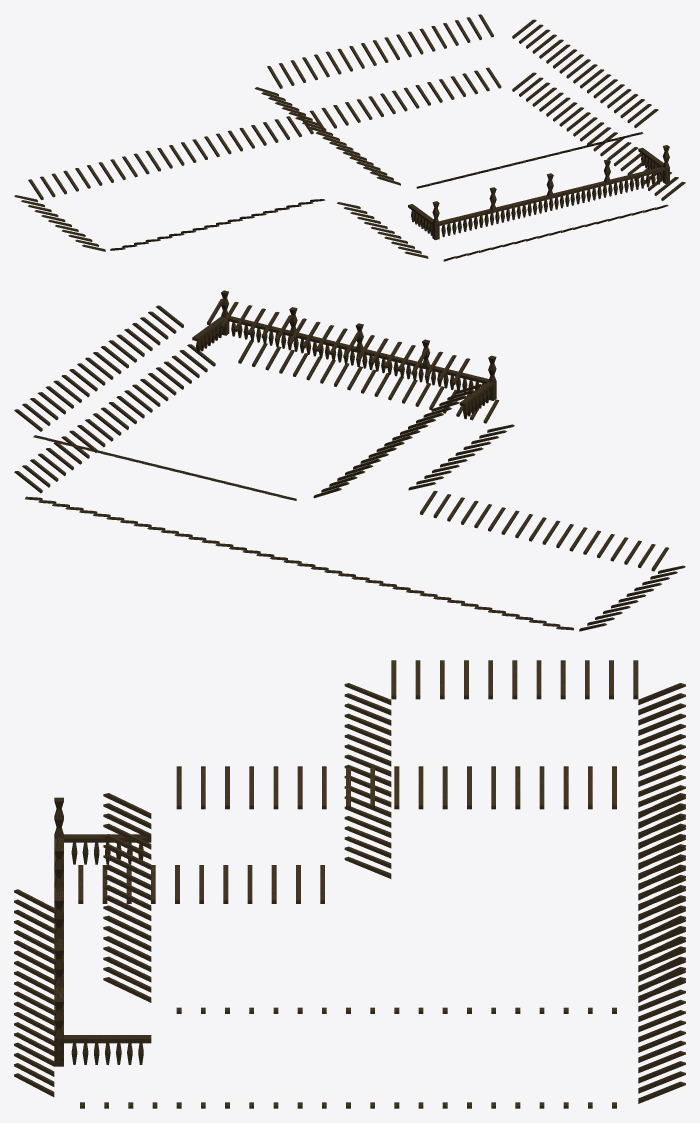
3 renders of one model, top to bottom at view 1: azimuth 30°, elevation 25°; view 2: azimuth 150°, elevation 25°; view 3: azimuth 270°, elevation 25°, orthographic. The views are drawn at different scales.
Parts seen in each view (by area): view 1: Soportes.005, Soportes.003, Soportes.002, Soportes.012, Soportes.004, Soportes.006, barandal, Soportes.007, Soportes.009, Soportes.008, Soportes.001, Soportes (+1 smaller); view 2: Soportes.003, Soportes.002, Soportes.001, Soportes.005, Soportes.008, Soportes.012, Soportes, Soportes.006, barandal, Soportes.009, Soportes.007, Soportes.004 (+1 smaller); view 3: Soportes.005, Soportes.001, Soportes.004, Soportes.008, Soportes, Soportes.006, Soportes.007, Soportes.009, Soportes.010, Soportes.003, Cube.035, barandal (+2 smaller).
Boxes of the visible parts, <box> form: Soportes.005: <box>28,67,501,200</box>; Soportes.003: <box>512,72,685,200</box>; Soportes.002: <box>512,19,658,128</box>; Soportes.012: <box>441,172,660,237</box>; Soportes.004: <box>267,14,493,88</box>; Soportes.006: <box>254,87,400,185</box>; barandal: <box>439,166,665,225</box>; Soportes.007: <box>14,195,105,251</box>; Soportes.009: <box>337,202,428,258</box>; Soportes.008: <box>110,199,325,250</box>; Soportes.001: <box>416,132,643,188</box>; Soportes: <box>443,204,668,261</box>; Soportes.003: <box>14,344,215,493</box>; Soportes.002: <box>14,305,183,431</box>; Soportes.001: <box>207,298,470,384</box>; Soportes.005: <box>25,496,573,630</box>; Soportes.008: <box>420,491,668,571</box>; Soportes.012: <box>231,322,484,394</box>; Soportes: <box>238,340,499,423</box>; Soportes.006: <box>313,384,483,498</box>; barandal: <box>228,316,488,383</box>; Soportes.009: <box>408,424,514,490</box>; Soportes.007: <box>579,565,685,631</box>; Soportes.004: <box>33,435,296,500</box>; Soportes.005: <box>638,683,685,1103</box>; Soportes.001: <box>103,793,151,1002</box>; Soportes.004: <box>638,793,685,1002</box>; Soportes.008: <box>344,683,391,878</box>; Soportes: <box>14,889,54,1096</box>; Soportes.006: <box>176,766,616,809</box>; Soportes.007: <box>391,660,638,699</box>; Soportes.009: <box>78,865,324,903</box>; Soportes.010: <box>54,797,63,987</box>; Soportes.003: <box>80,1102,616,1108</box>; Cube.035: <box>64,1035,151,1043</box>; barandal: <box>54,838,63,1034</box>.
Size of the model in its own units: 13.18 by 1.62 by 8.34.
1 material, 1 textured.
